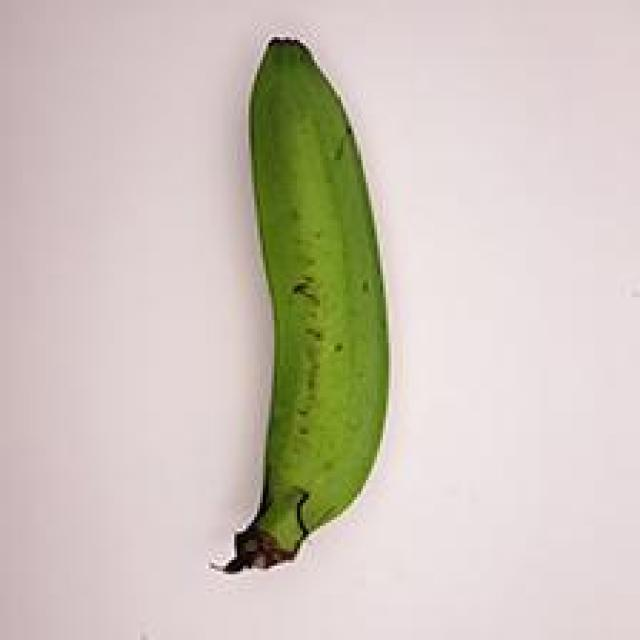Raw: (196, 22, 397, 588)
